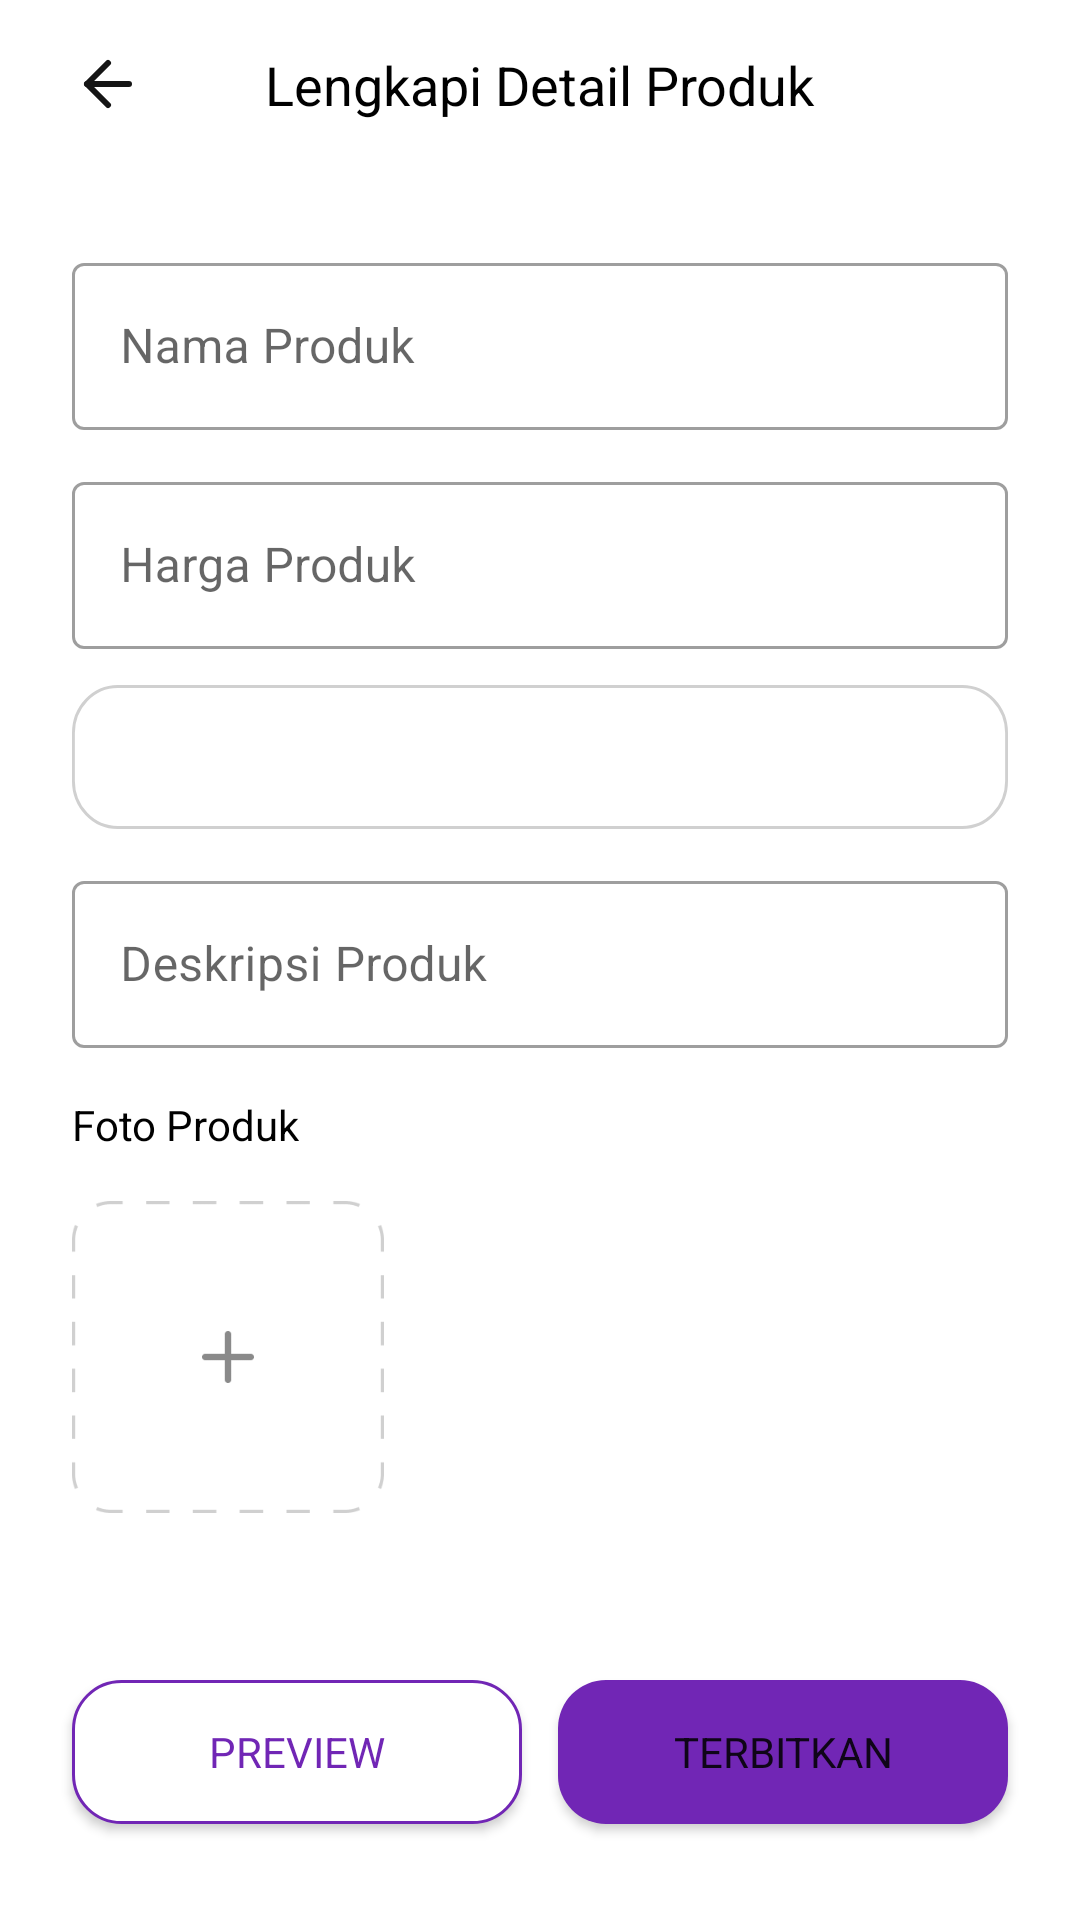

Icon bounding boxes for this 1080w x 1920h phone screenshot, format (x1, y1, x2, y2):
back button: (84, 60, 132, 108)
rect add: (72, 1201, 384, 1513)
